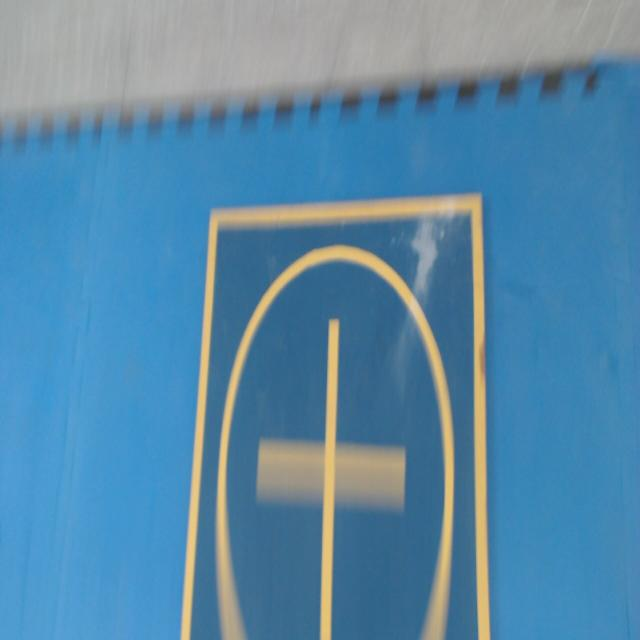base_pouso: (181, 192, 491, 639)
